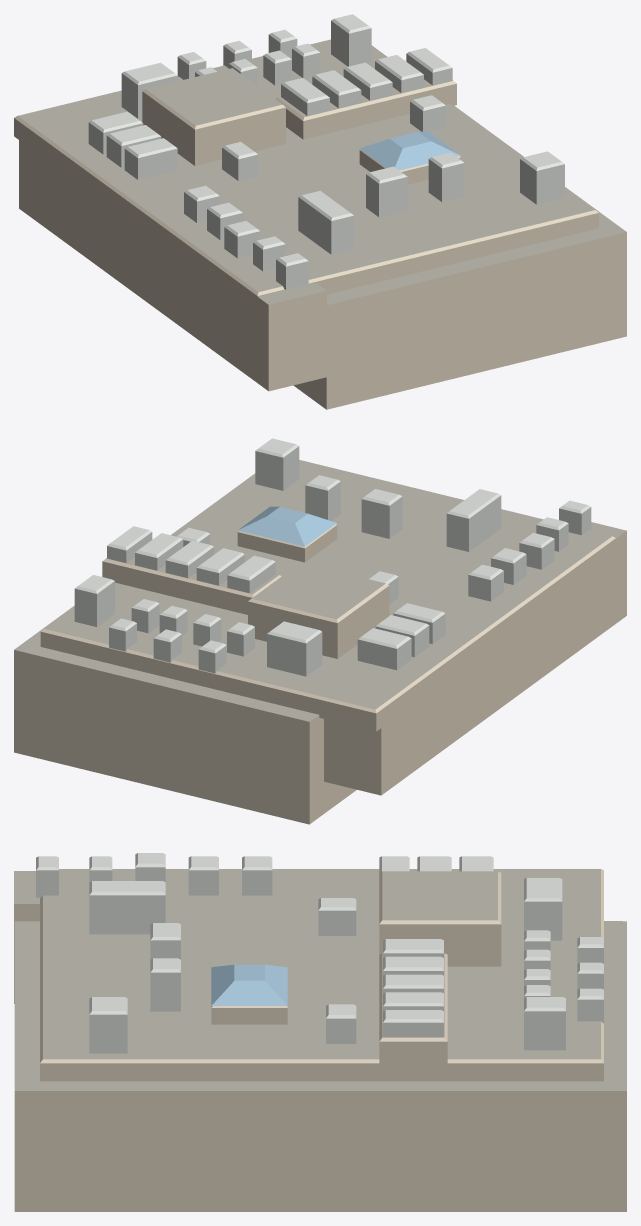
The model's file is hou-mfah-beck-building.glb.
3 views of the same model, one above another, from view 1: azimuth 30°, elevation 25°; view 2: azimuth 150°, elevation 25°; view 3: azimuth 270°, elevation 25° (orthographic). The views are drawn at different scales.
Visible parts, largest first — view 1: Audrey Jones Beck Building; view 2: Audrey Jones Beck Building; view 3: Audrey Jones Beck Building.
Boxes of the visible parts, x1,y1,x2,y2 form: Audrey Jones Beck Building: [14, 14, 626, 409]; Audrey Jones Beck Building: [14, 438, 626, 824]; Audrey Jones Beck Building: [14, 853, 626, 1211].
Size of the model in its own units: 62.9 by 27 by 80.4.
